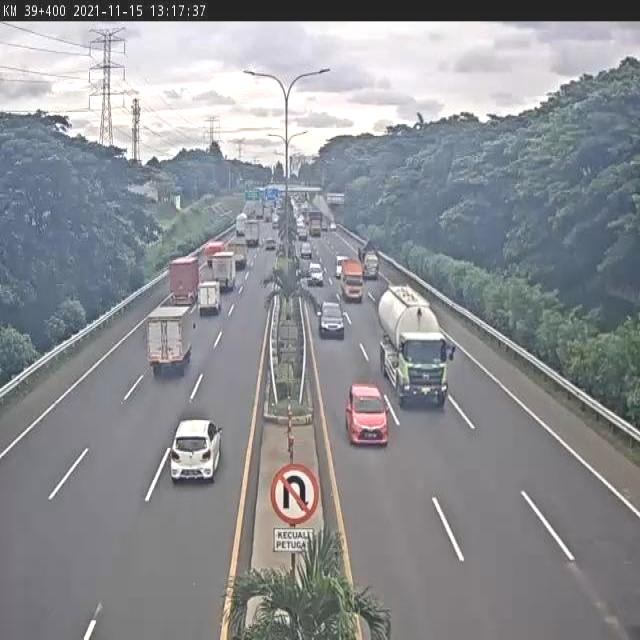Car: (169, 418, 223, 483), (344, 382, 390, 448), (318, 300, 346, 340), (308, 262, 324, 286), (335, 255, 349, 279), (300, 242, 313, 261), (265, 237, 276, 251), (297, 227, 307, 240), (321, 221, 328, 231), (330, 223, 336, 232)
Truck: (377, 284, 456, 410), (145, 304, 196, 378), (167, 255, 200, 306), (211, 251, 237, 292), (196, 278, 222, 316), (226, 238, 248, 270), (204, 239, 226, 269), (244, 218, 260, 248), (308, 209, 322, 237), (234, 212, 247, 237), (254, 199, 265, 220)
